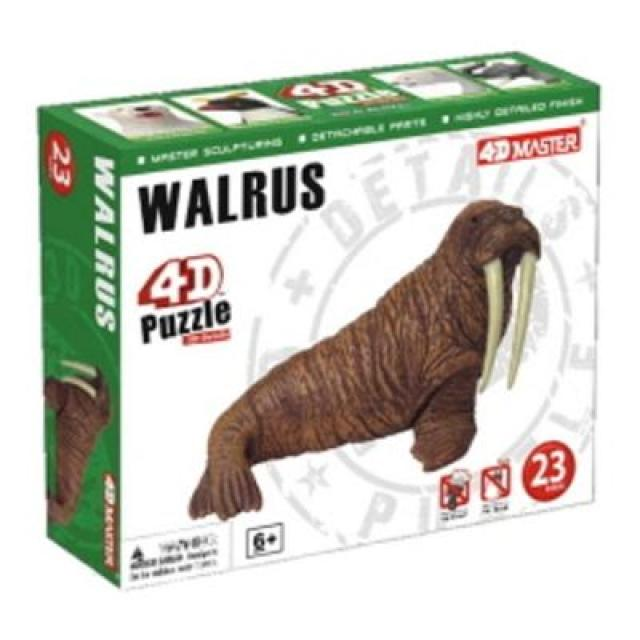walrus: (182, 188, 546, 524)
